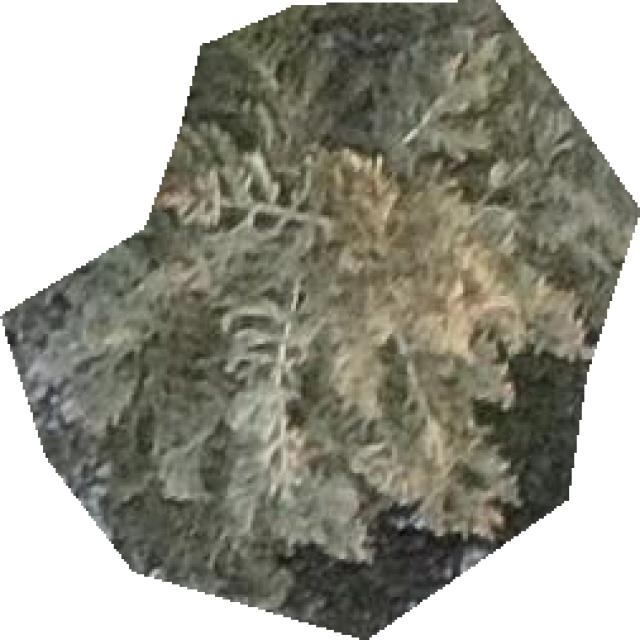spruce: (3, 0, 637, 637)
